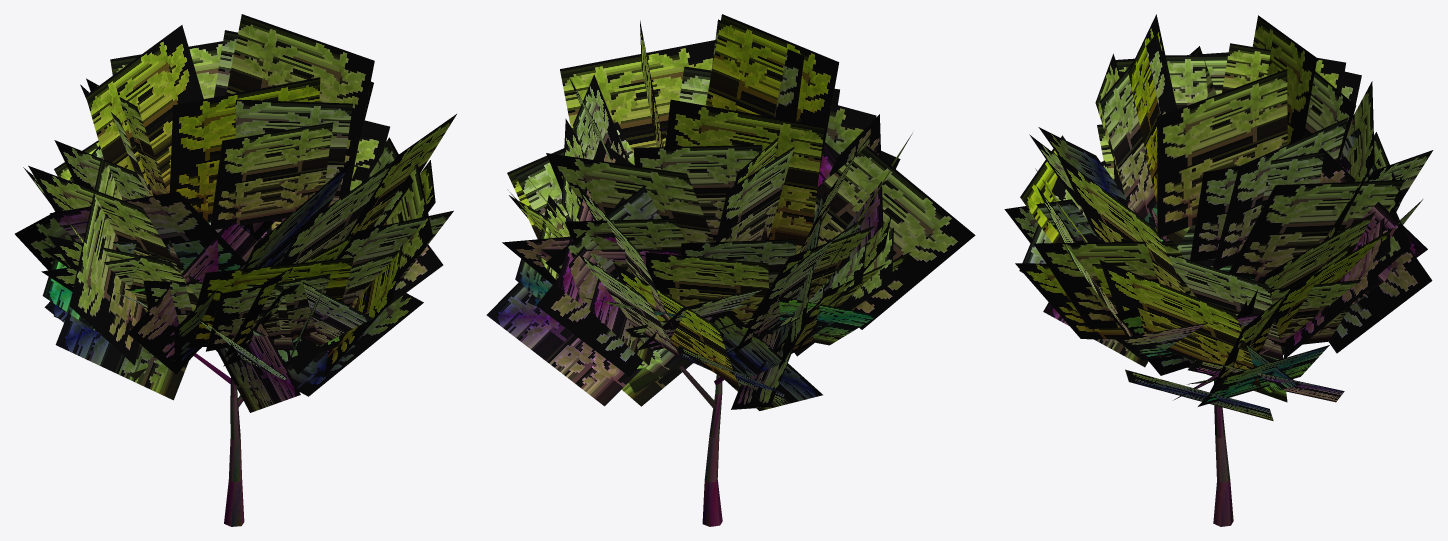
Rendered from tree-hornbeam-lo.glb.
3 renders of one model, left to right at view 1: azimuth 30°, elevation 25°; view 2: azimuth 150°, elevation 25°; view 3: azimuth 270°, elevation 25°, orthographic.
Visible parts, largest first — view 1: lo-leaf, lo-bark; view 2: lo-leaf, lo-bark; view 3: lo-leaf, lo-bark.
Part boxes in pixels (x1,y1,x2,y2): lo-leaf: (15, 14, 456, 412); lo-bark: (194, 350, 244, 526); lo-leaf: (486, 14, 975, 410); lo-bark: (679, 366, 724, 526); lo-leaf: (1004, 14, 1433, 420); lo-bark: (1213, 380, 1233, 526).
Size of the model in its own units: 10.26 by 11.16 by 9.18.
Materials: 2 (2 with a texture image).
